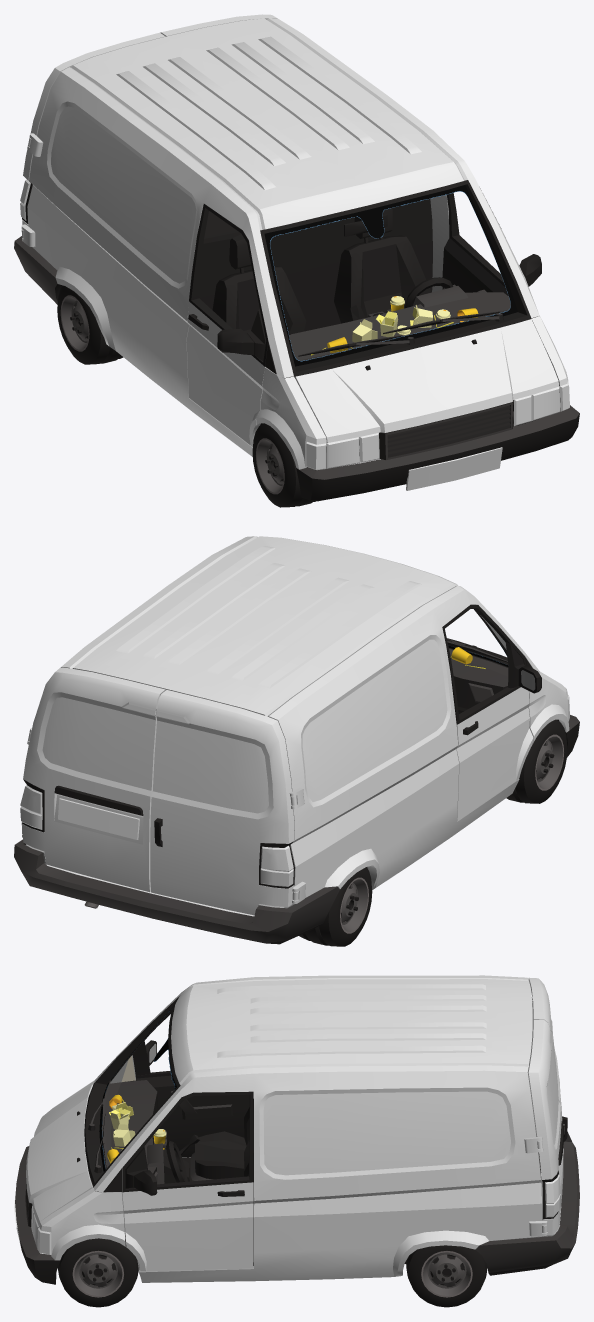
Rendered from WhiteVan.fbx.
3 views of the same model, one above another, from view 1: azimuth 30°, elevation 25°; view 2: azimuth 150°, elevation 25°; view 3: azimuth 270°, elevation 25° (orthographic). The views are drawn at different scales.
Parts seen in each view (by area): view 1: Body, Bonet, Doors_FR, Bumper_F, Grill_F, Fender_FR, Doors_FL, Wheel_FR, Wheel_RR, Doors_RR, Headlights_FR, Bumper_R (+5 smaller); view 2: Body, Doors_RR, Doors_RL, Bumper_R, Doors_FR, Wheel_FR, Wheel_RR, Fender_FR, Lights_RR, Lights_RL; view 3: Body, Doors_FL, Bonet, Doors_FR, Bumper_R, Wheel_FL, Doors_RL, Wheel_RL, Fender_FL, Bumper_F, InteriorAssymetry, Doors_RR (+2 smaller).
Part boxes in pixels (x1,y1,x2,y2): Body: (21, 18, 539, 461); Bonet: (295, 319, 558, 442); Doors_FR: (186, 204, 268, 446); Bumper_F: (296, 405, 579, 501); Grill_F: (379, 401, 513, 459); Fender_FR: (256, 367, 326, 469); Doors_FL: (442, 188, 541, 295); Wheel_FR: (252, 422, 326, 507); Wheel_RR: (57, 285, 123, 364); Doors_RR: (21, 32, 165, 238); Headlights_FR: (326, 433, 379, 468); Bumper_R: (14, 236, 62, 304); Body: (21, 536, 539, 916); Doors_RR: (150, 690, 298, 915); Doors_RL: (22, 667, 165, 892); Bumper_R: (14, 839, 339, 944); Doors_FR: (442, 604, 541, 821); Wheel_FR: (506, 719, 567, 803); Wheel_RR: (299, 867, 372, 946); Fender_FR: (528, 671, 569, 743); Lights_RR: (259, 841, 294, 888); Lights_RL: (20, 779, 44, 832); Body: (84, 975, 561, 1282); Doors_FL: (122, 1091, 253, 1271); Bonet: (26, 1084, 92, 1225); Doors_FR: (125, 1011, 249, 1157); Bumper_R: (476, 1125, 579, 1275); Wheel_FL: (58, 1235, 138, 1307); Doors_RL: (528, 1019, 563, 1235); Wheel_RL: (406, 1245, 487, 1307); Fender_FL: (39, 1187, 125, 1260); Bumper_F: (14, 1146, 60, 1284); InteriorAssymetry: (147, 1131, 187, 1184); Doors_RR: (528, 977, 567, 1141).
Bounding box in the file's own units: 138 × 107 × 234.
4 materials, 3 textured.
